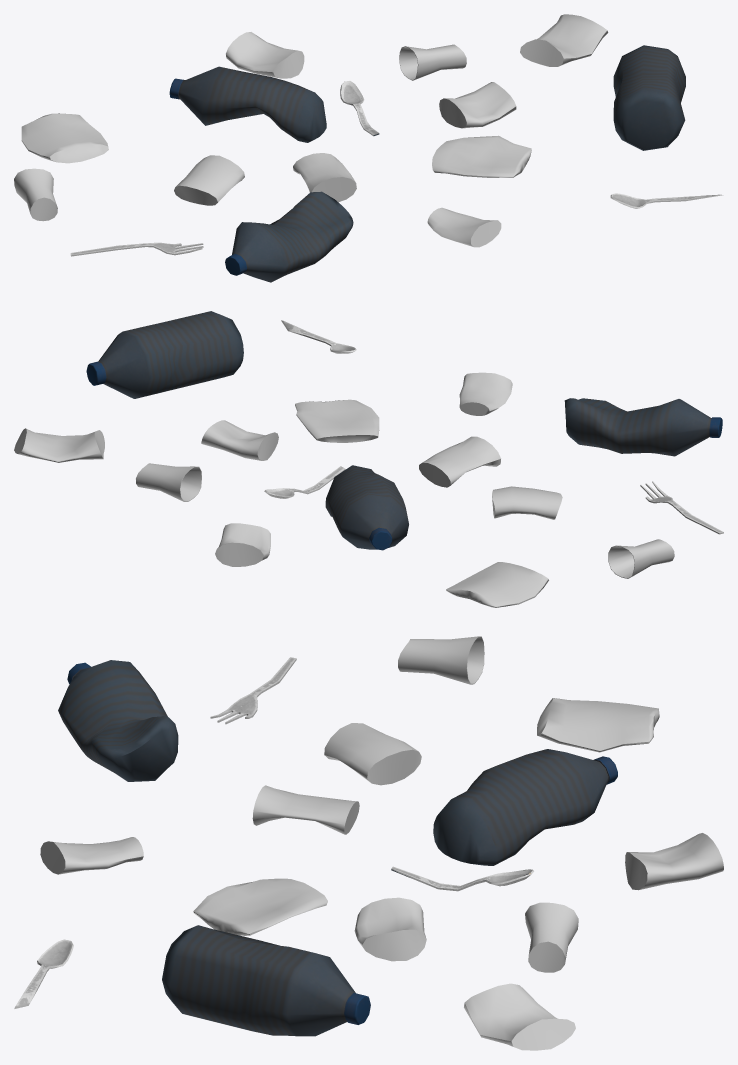
Rendered from SM_Garbage_A.fbx.
3 views of the same model, one above another, from view 1: azimuth 30°, elevation 25°; view 2: azimuth 150°, elevation 25°; view 3: azimuth 270°, elevation 25° (orthographic). The views are drawn at different scales.
Visible parts, largest first — view 1: SM_Water_Bottle_C.003, SM_Water_Bottle_C.001, SM_Water_Bottle_B.001, model_4.004, model_4.006, model_4.009, model_4.005, model_4.002, model_4.008, model_4.003, model_4.035, model_4.010 (+4 smaller); view 2: SM_Water_Bottle_B.001, SM_Water_Bottle_C.001, SM_Water_Bottle_C.003, model_4.004, model_4.006, model_4.003, model_4.009, model_4.005, model_4.002, model_4.008, model_4.035, model_4.010 (+4 smaller); view 3: SM_Water_Bottle_B.001, SM_Water_Bottle_C.003, SM_Water_Bottle_C.001, model_4.006, model_4.004, model_4.009, model_4.008, model_4.002, model_4.005, model_4.011, model_4.003, model_4.010 (+4 smaller).
Boxes of the visible parts, x1,y1,x2,y2 form: SM_Water_Bottle_C.003: (169,66,326,142); SM_Water_Bottle_C.001: (225,191,353,282); SM_Water_Bottle_B.001: (613,45,685,150); model_4.004: (432,135,531,177); model_4.006: (21,113,108,163); model_4.009: (520,14,608,66); model_4.005: (226,32,304,78); model_4.002: (439,82,516,128); model_4.008: (174,155,244,205); model_4.003: (293,153,356,202); model_4.035: (427,207,501,247); model_4.010: (399,44,466,80); SM_Water_Bottle_B.001: (86,311,243,398); SM_Water_Bottle_C.001: (564,398,722,456); SM_Water_Bottle_C.003: (325,465,408,550); model_4.004: (295,399,379,442); model_4.006: (446,562,548,607); model_4.003: (419,436,500,487); model_4.009: (14,428,104,462); model_4.005: (215,523,270,566); model_4.002: (201,420,278,460); model_4.008: (492,486,562,519); model_4.035: (459,372,512,415); model_4.010: (136,463,201,501); SM_Water_Bottle_B.001: (162,925,370,1036); SM_Water_Bottle_C.003: (433,749,617,865); SM_Water_Bottle_C.001: (58,660,178,781); model_4.006: (537,698,659,752); model_4.004: (193,878,327,935); model_4.009: (464,983,575,1050); model_4.008: (324,723,421,785); model_4.002: (354,897,426,961); model_4.005: (625,833,723,890); model_4.011: (398,636,484,684); model_4.003: (252,785,359,834); model_4.010: (525,902,578,972).
Bounding box in the file's own units: 145 × 14.06 × 108.
